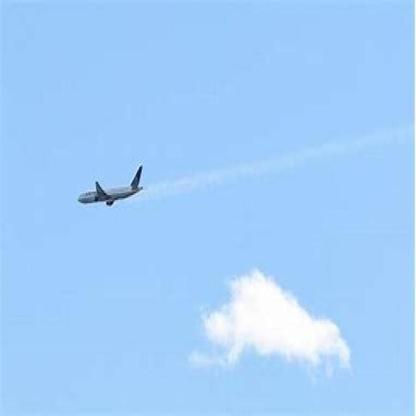plane: (75, 158, 155, 216)
